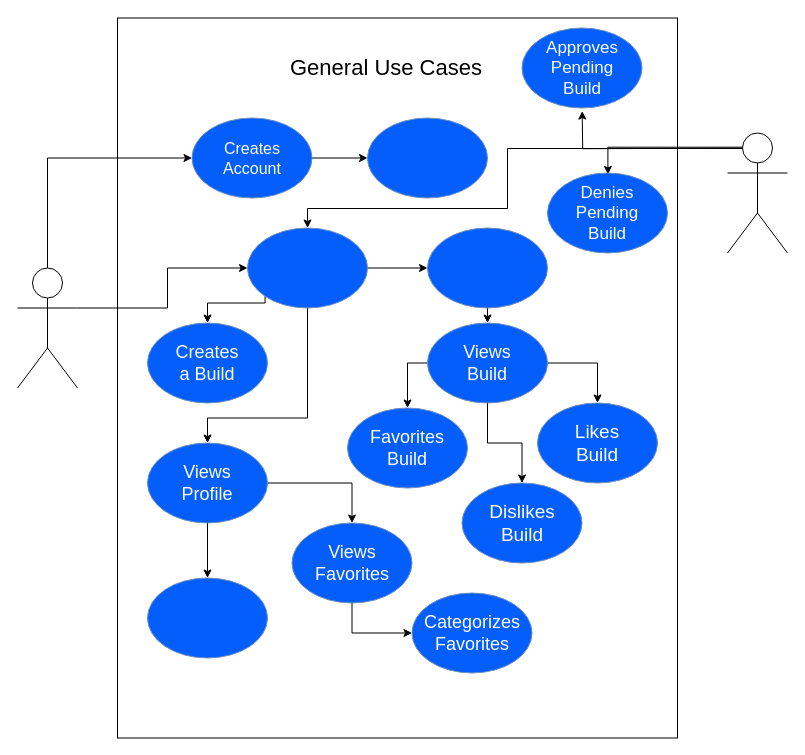
The diagram is 805 pixels wide and 755 high, and some of its shapes have lost their labels. The box of each missing label's shape, as (x1, y1, x2, y2) in pixels:
Admin: (726, 132, 788, 253)
Creates Profile: (366, 117, 488, 198)
Edits Profile: (146, 577, 268, 658)
Searches for Builds: (426, 227, 548, 308)
Signs In: (246, 227, 368, 308)
User: (16, 267, 78, 388)
